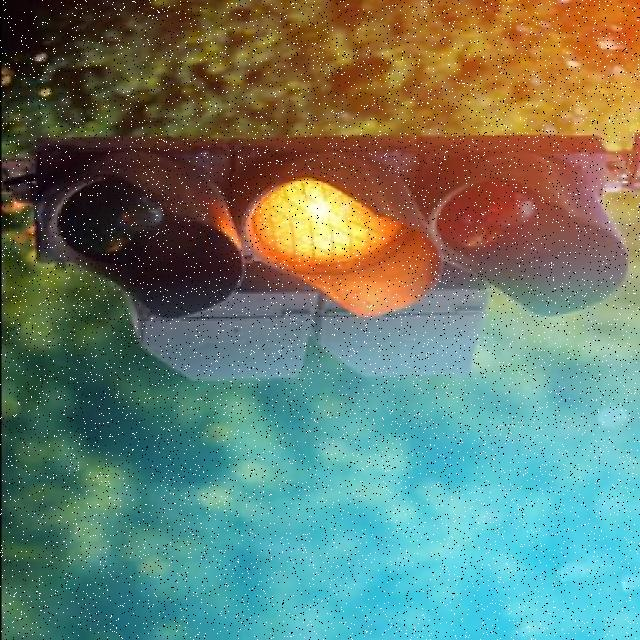yellow-light: (25, 108, 640, 343)
